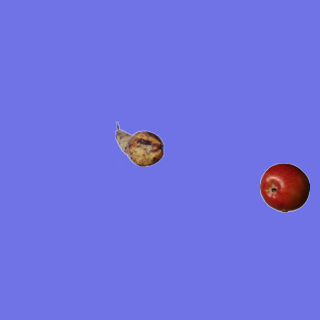Apple Braeburn: (259, 162, 309, 212)
Pear Abate: (114, 119, 164, 169)
